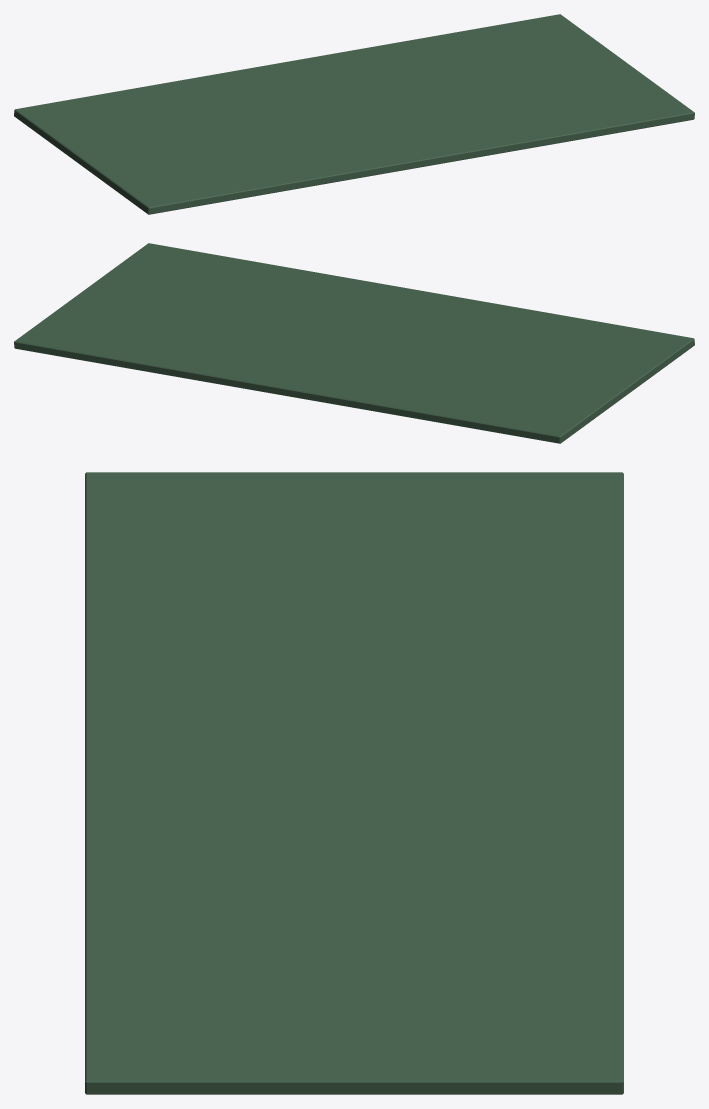
File: Cabinet_Under.fbx
3 views of the same model, one above another, from view 1: azimuth 30°, elevation 25°; view 2: azimuth 150°, elevation 25°; view 3: azimuth 270°, elevation 25° (orthographic). The views are drawn at different scales.
Visible parts, largest first — view 1: Cabinet_Under; view 2: Cabinet_Under; view 3: Cabinet_Under.
Boxes of the visible parts, x1,y1,x2,y2 form: Cabinet_Under: [14, 14, 694, 214]; Cabinet_Under: [14, 243, 694, 443]; Cabinet_Under: [85, 472, 623, 1094].
Bounding box in the file's own units: 131 × 10.38 × 56.
